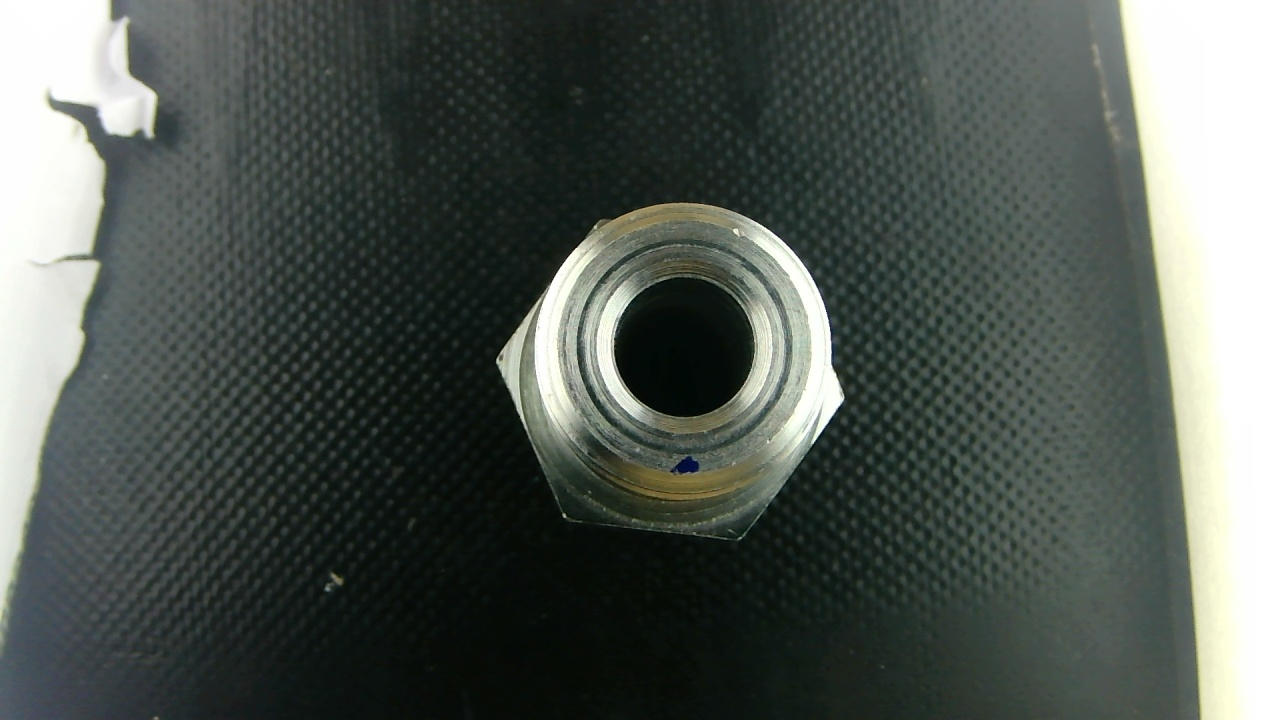okay_adapter: (497, 203, 842, 539)
